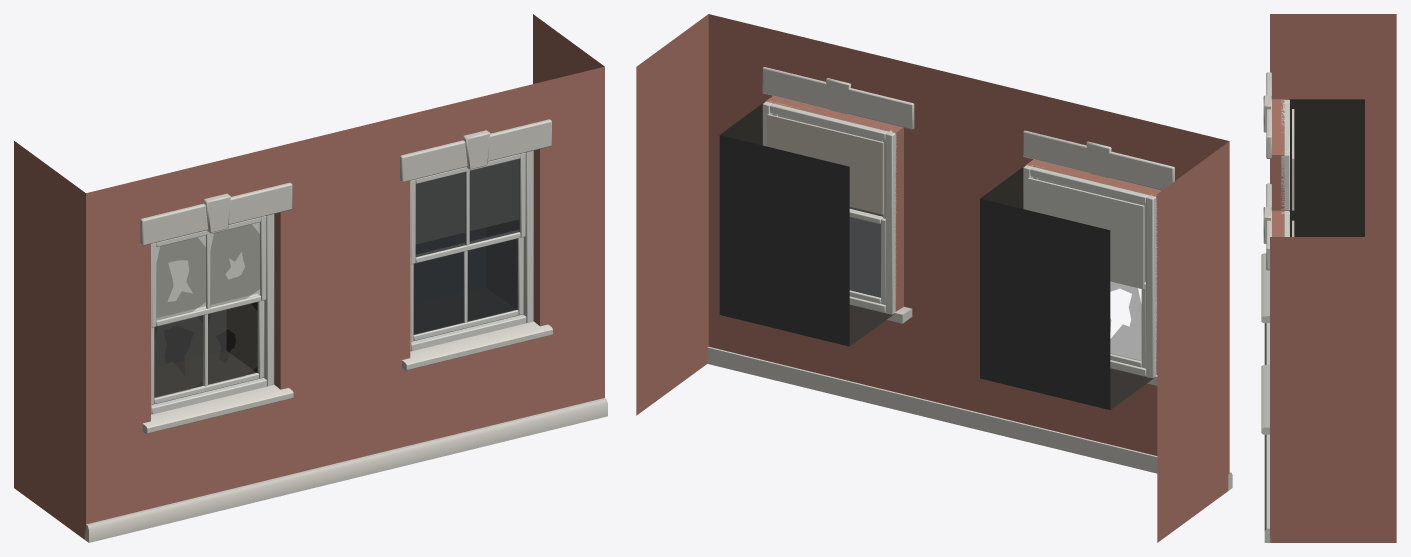
The model's file is upper_5c.glb.
The picture shows the model from 3 angles, left to right: view 1: azimuth 30°, elevation 25°; view 2: azimuth 150°, elevation 25°; view 3: azimuth 270°, elevation 25°; orthographic projection. The views are drawn at different scales.
Visible parts, largest first — view 1: upper_5c; view 2: upper_5c; view 3: upper_5c.
Boxes of the visible parts, x1,y1,x2,y2 form: upper_5c: (14, 14, 607, 542); upper_5c: (636, 14, 1232, 542); upper_5c: (1261, 14, 1396, 542).
Bounding box in the file's own units: 5 × 3.2 × 1.28.
